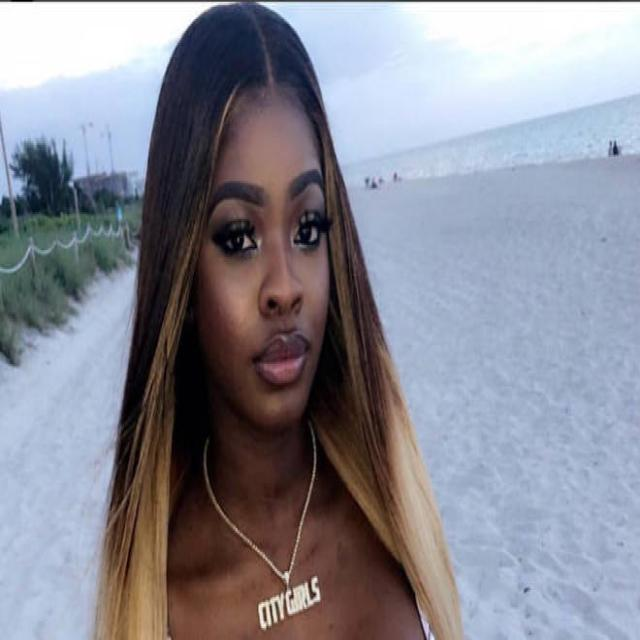mobile_phonerotation: (89, 2, 465, 638)
